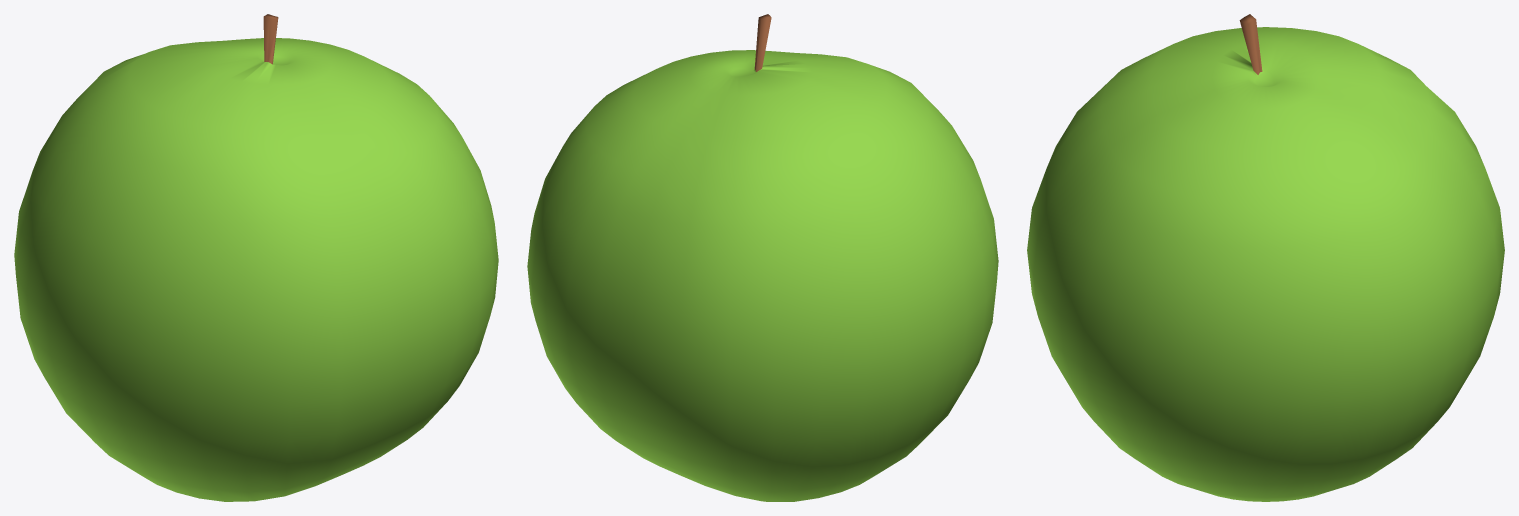
Rendered from apple.glb.
The picture shows the model from 3 angles, left to right: view 1: azimuth 30°, elevation 25°; view 2: azimuth 150°, elevation 25°; view 3: azimuth 270°, elevation 25°; orthographic projection. The views are drawn at different scales.
Parts seen in each view (by area): view 1: Sphere.001; view 2: Sphere.001; view 3: Sphere.001.
Part boxes in pixels (x1=…): Sphere.001: x1=14, y1=14, x2=498, y2=501; Sphere.001: x1=527, y1=14, x2=998, y2=501; Sphere.001: x1=1027, y1=14, x2=1504, y2=501.
Size of the model in its own units: 3.43 by 3.63 by 3.37.
